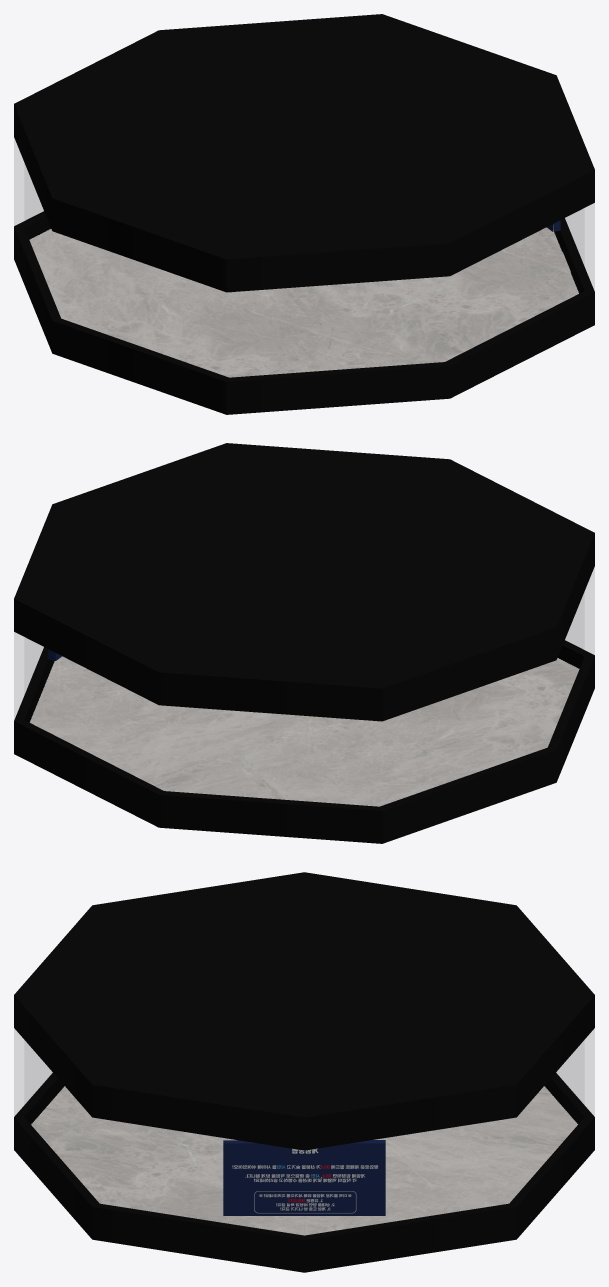
The model's file is waiting room.fbx.
The picture shows the model from 3 angles, top to bottom: view 1: azimuth 30°, elevation 25°; view 2: azimuth 150°, elevation 25°; view 3: azimuth 270°, elevation 25°; orthographic projection.
Parts seen in each view (by area): view 1: polySurface10; view 2: polySurface10; view 3: polySurface10.
Boxes of the visible parts, box(x1,y1,x2,y2) form: polySurface10: box(14, 14, 594, 414); polySurface10: box(14, 443, 594, 843); polySurface10: box(14, 872, 594, 1272).
Size of the model in its own units: 0.2329 by 0.0686 by 0.2329.
3 materials, 2 textured.
